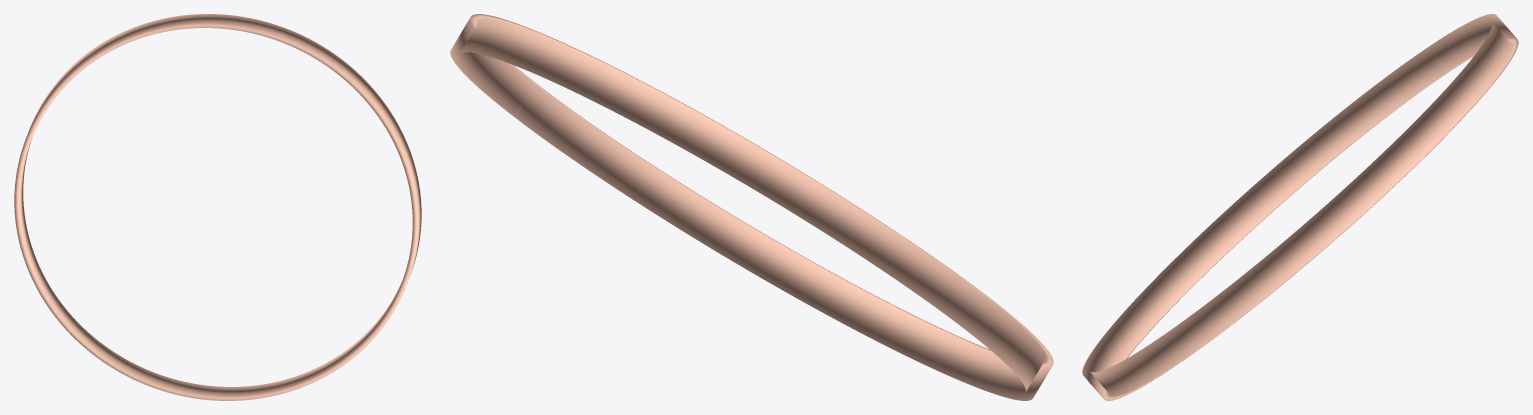
File: coil_coil_15_tube.gltf
The picture shows the model from 3 angles, left to right: view 1: azimuth 30°, elevation 25°; view 2: azimuth 150°, elevation 25°; view 3: azimuth 270°, elevation 25°; orthographic projection. The views are drawn at different scales.
Visible parts, largest first — view 1: Renderer Node; view 2: Renderer Node; view 3: Renderer Node.
Boxes of the visible parts, x1,y1,x2,y2 form: Renderer Node: (14,14,421,400); Renderer Node: (450,14,1053,400); Renderer Node: (1082,14,1518,400).
Size of the model in its own units: 0.602 by 0.4428 by 0.4839.
